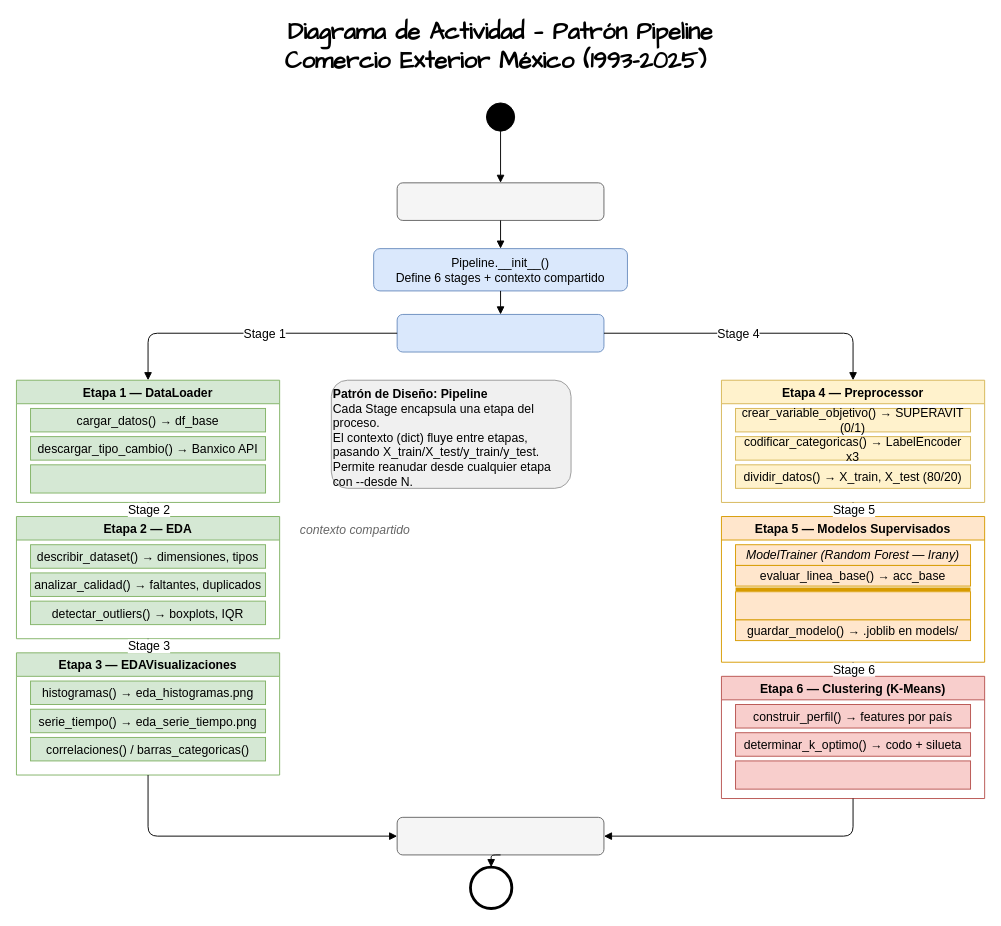
Image size: 1001x926. Some labels were removed from this diagram. The shapes that lost their labels are listed below. From the top down, each one's centre as x and y in pixels, then its label:
[500,201]: python src/pipeline.py
[500,332]: Pipeline.ejecutar(desde=1)
[148,478]: fusionar() → comercio_exterior_enriquecido.csv
[853,605]: ModelTrainerXGBoost (Brenda) — acc 99.58%
[853,774]: visualizar_clusters() → PCA 2D + guardar .joblib
[500,835]: Contexto devuelto (modelos + datos)
